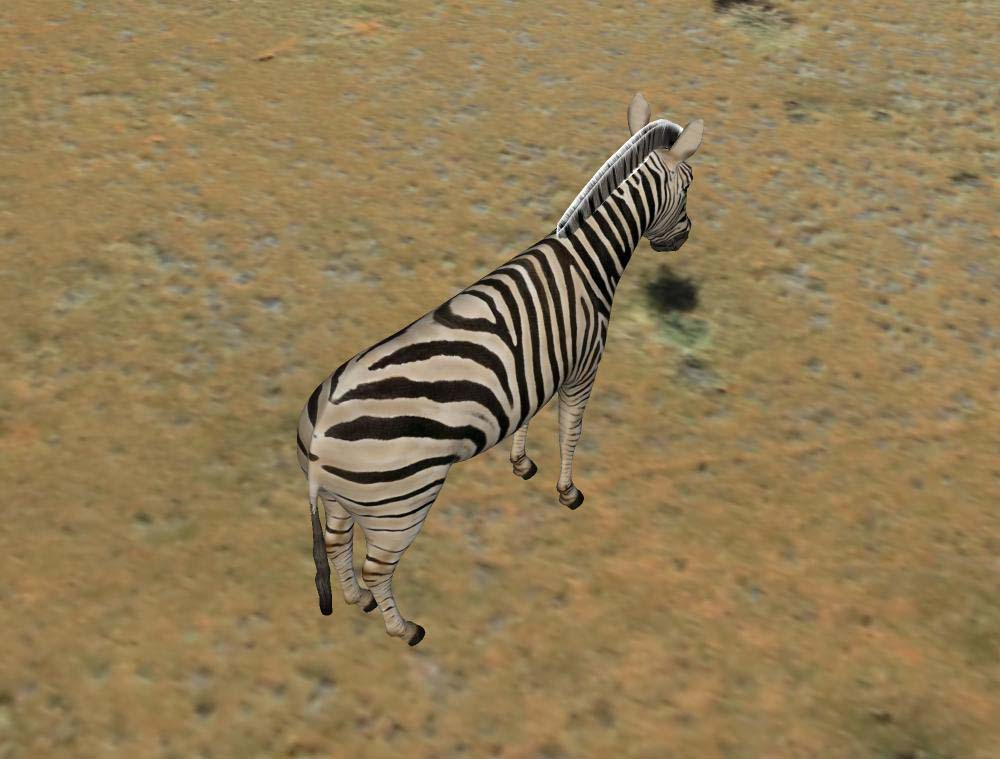zebra: (294, 86, 706, 650)
